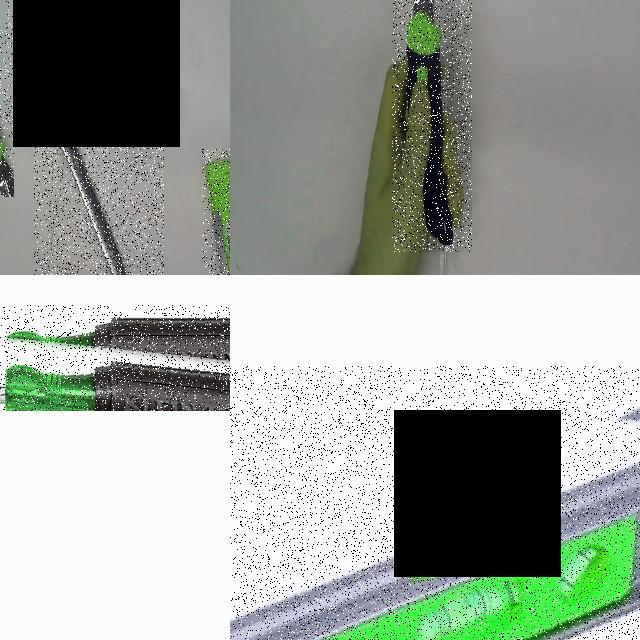estilete: (400, 0, 453, 245)
